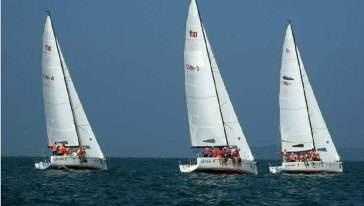fanchuan: (176, 1, 260, 177), (268, 19, 347, 176), (37, 11, 110, 174)
